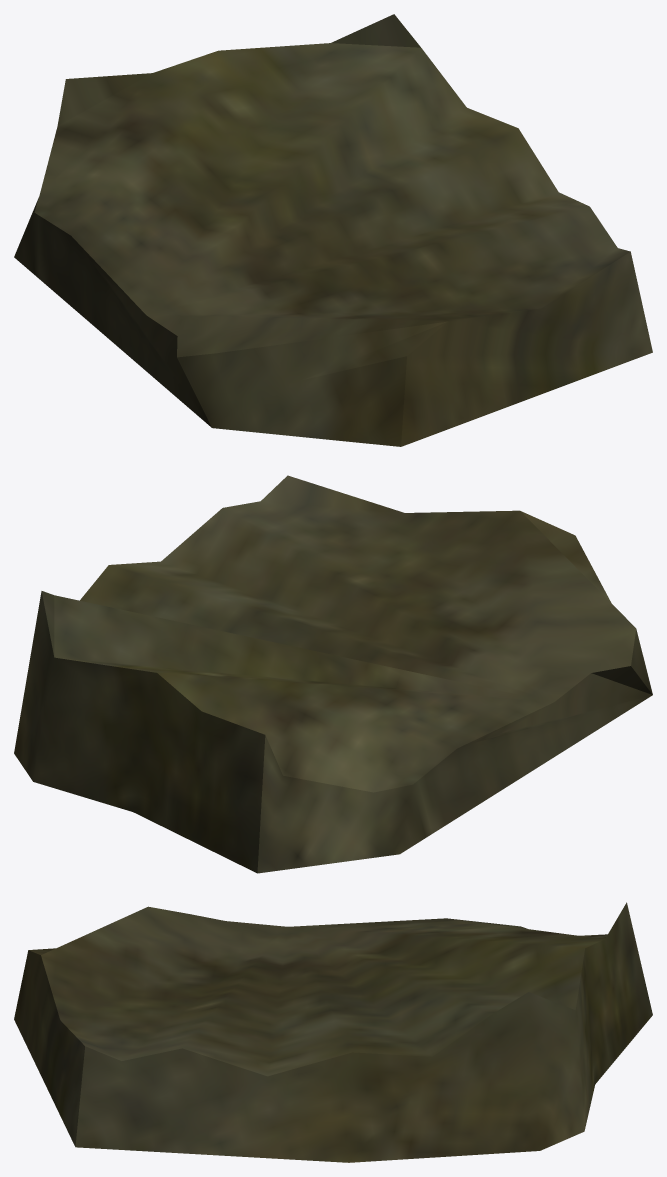
The model's file is mlzd_zw_03.FBX.
3 renders of one model, top to bottom at view 1: azimuth 30°, elevation 25°; view 2: azimuth 150°, elevation 25°; view 3: azimuth 270°, elevation 25°, orthographic. The views are drawn at different scales.
Visible parts, largest first — view 1: mlzd_zw_03; view 2: mlzd_zw_03; view 3: mlzd_zw_03.
Part boxes in pixels (x1,y1,x2,y2): mlzd_zw_03: (14, 14, 652, 446); mlzd_zw_03: (14, 475, 652, 873); mlzd_zw_03: (14, 902, 652, 1162).
Size of the model in its own units: 320 by 111 by 428.
